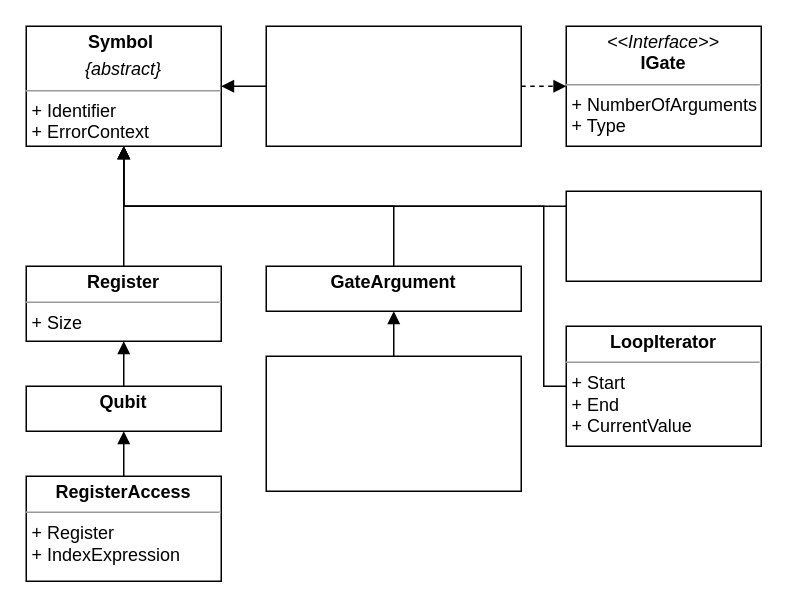
Some shapes in this 788 by 608 pixel diagram are drawn without their labels. The centre of each missing label's shape, as x and y in pixels:
"CompositeGate + Block + Arguments" belongs at [393,85].
"Constant<T> + Value" belongs at [663,235].
"GateArgument Access + Argument + IndexExpression" belongs at [393,423].
